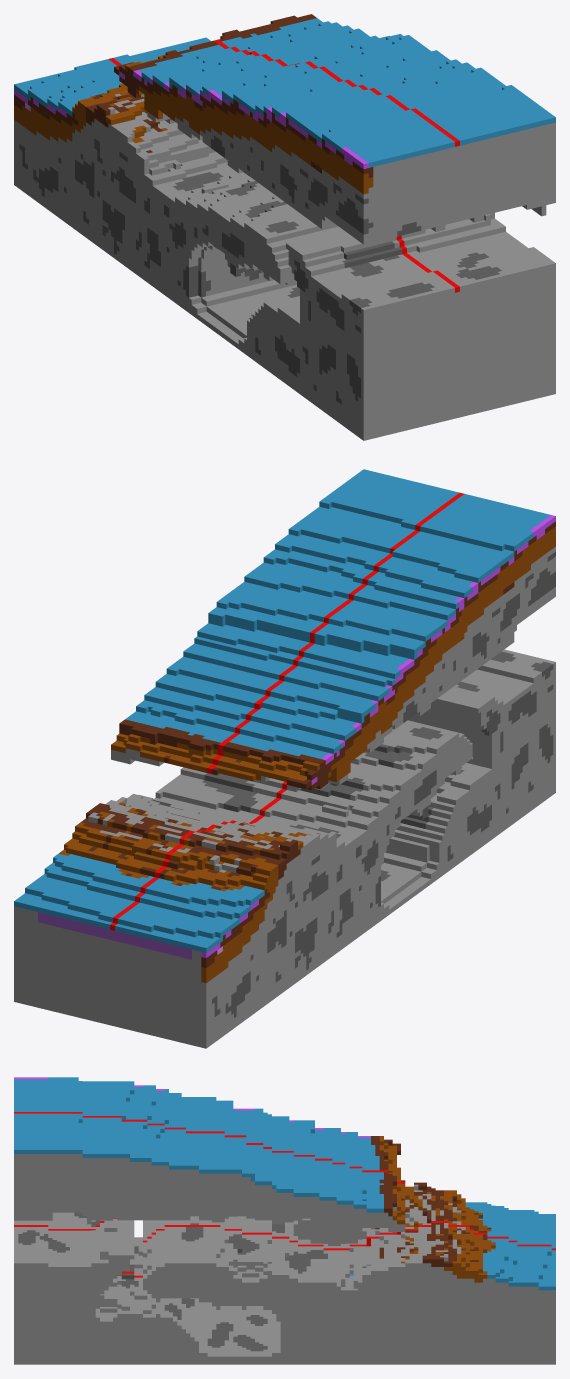
File: Level 1-3.obj
3 views of the same model, one above another, from view 1: azimuth 30°, elevation 25°; view 2: azimuth 150°, elevation 25°; view 3: azimuth 270°, elevation 25° (orthographic). The views are drawn at different scales.
Visible parts, largest first — view 1: default; view 2: default; view 3: default.
Part boxes in pixels (x1,y1,x2,y2): default: (14,14,555,440); default: (14,469,555,1048); default: (14,1077,555,1364).
Bounding box in the file's own units: 40 × 55 × 126.
